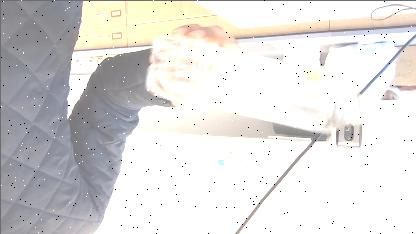Plastic Bottle: (146, 34, 370, 127)
